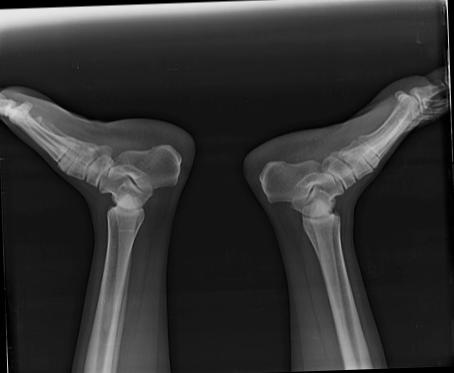fractured: (115, 222, 137, 237)
